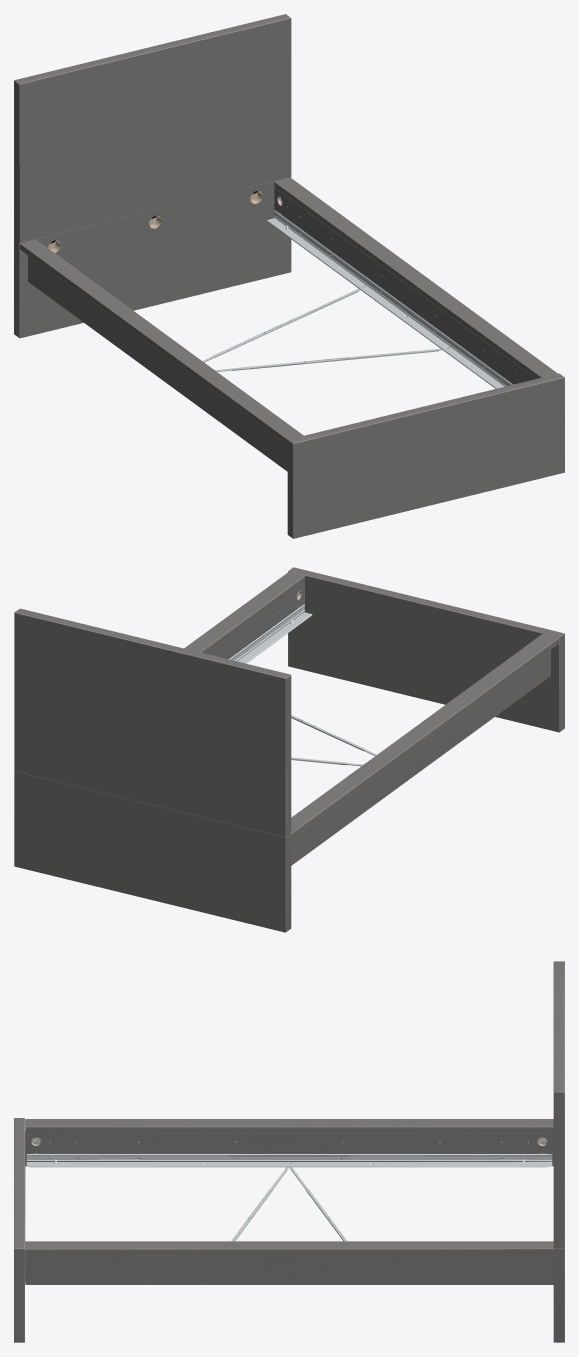
File: MALM_40249490.glb
3 renders of one model, top to bottom at view 1: azimuth 30°, elevation 25°; view 2: azimuth 150°, elevation 25°; view 3: azimuth 270°, elevation 25°, orthographic.
Visible parts, largest first — view 1: model; view 2: model; view 3: model.
Part boxes in pixels (x1,y1,x2,y2): model: (14,14,564,538); model: (14,567,564,932); model: (14,961,564,1342).
Bounding box in the file's own units: 1.12 × 1.01 × 1.99.
Materials: 1 (1 with a texture image).
